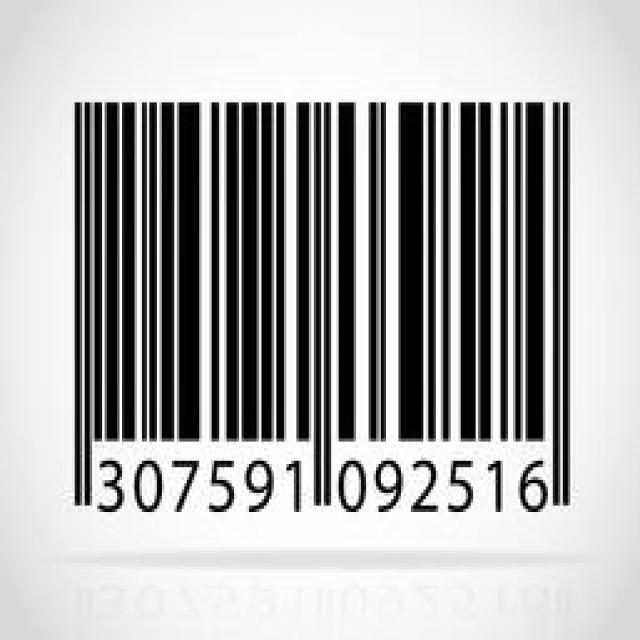Barkod: (61, 88, 586, 524)
